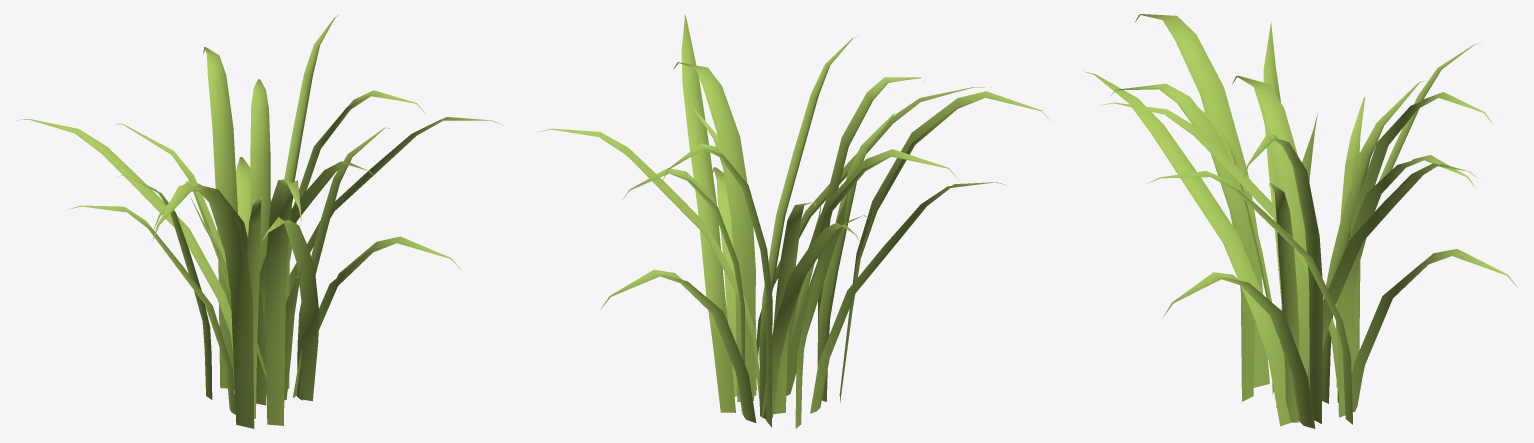
The model's file is grass_01.glb.
The picture shows the model from 3 angles, left to right: view 1: azimuth 30°, elevation 25°; view 2: azimuth 150°, elevation 25°; view 3: azimuth 270°, elevation 25°; orthographic projection. The views are drawn at different scales.
Parts seen in each view (by area): view 1: Grass_20; view 2: Grass_20; view 3: Grass_20.
Boxes of the visible parts, x1,y1,x2,y2 form: Grass_20: (16, 15, 503, 428); Grass_20: (537, 15, 1051, 428); Grass_20: (1084, 14, 1518, 428).
Bounding box in the file's own units: 0.3611 × 0.2693 × 0.335.
